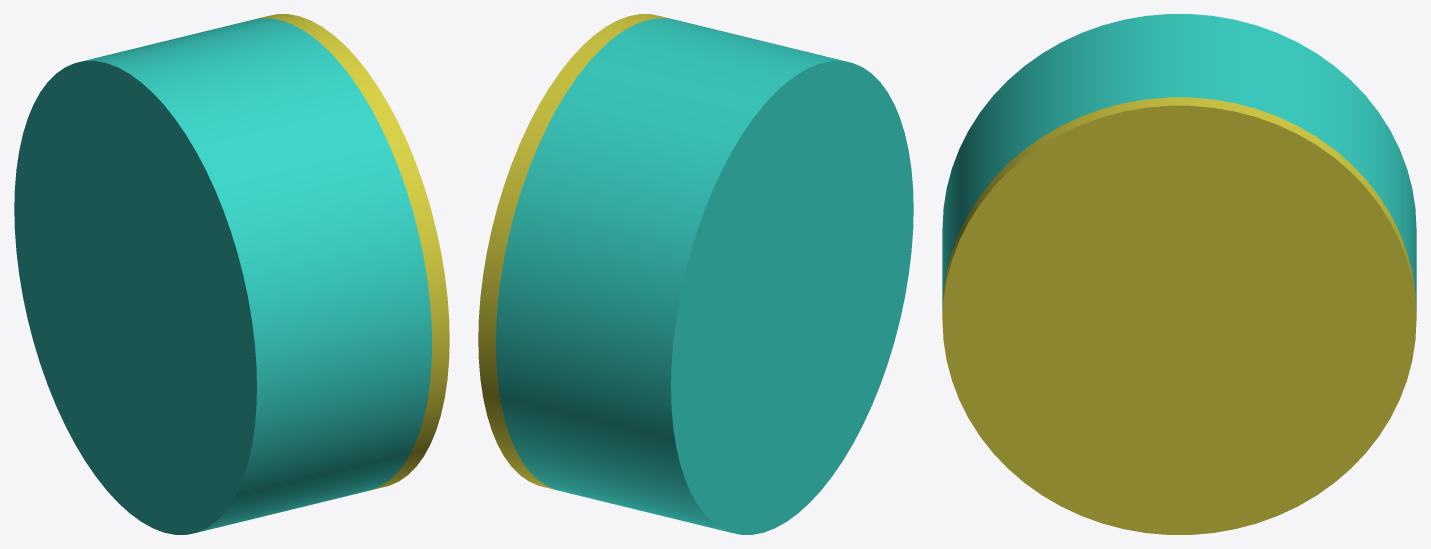
Rendered from wrist_rot_link_dexter.obj.
The picture shows the model from 3 angles, left to right: view 1: azimuth 30°, elevation 25°; view 2: azimuth 150°, elevation 25°; view 3: azimuth 270°, elevation 25°; orthographic projection. The views are drawn at different scales.
Parts seen in each view (by area): view 1: Body1, Body2; view 2: Body1, Body2; view 3: Body2, Body1.
Boxes of the visible parts, box(x1,y1,x2,y2) form: Body1: box(14, 18, 431, 534); Body2: box(255, 14, 449, 489); Body1: box(496, 18, 913, 534); Body2: box(478, 14, 672, 489); Body2: box(942, 97, 1416, 534); Body1: box(942, 14, 1416, 310).
Bounding box in the file's own units: 0.055 × 0.1199 × 0.12.
